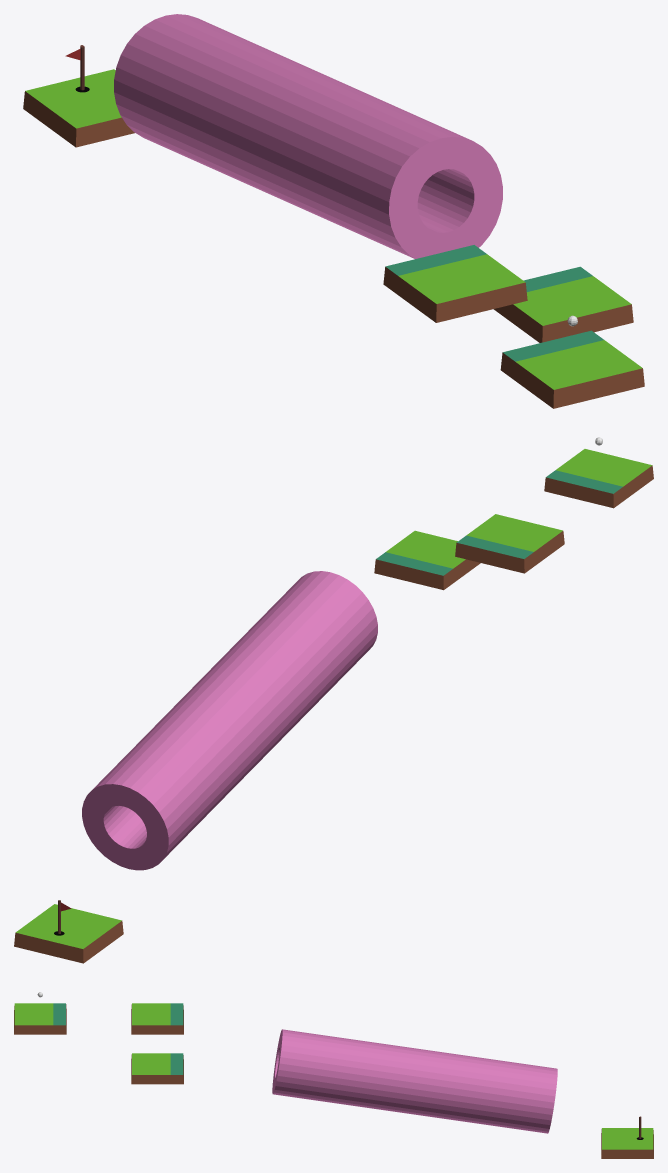
File: level6.glb
3 views of the same model, one above another, from view 1: azimuth 30°, elevation 25°; view 2: azimuth 150°, elevation 25°; view 3: azimuth 270°, elevation 25° (orthographic). The views are drawn at different scales.
Parts seen in each view (by area): view 1: Cylinder, basic-moveable.001, basic-moveable.002, basic-moveable.003, basic-fixed.001; view 2: Cylinder, basic-moveable.002, basic-moveable.001, basic-fixed.001, basic-moveable.003; view 3: Cylinder, basic-moveable.001, basic-moveable.002, basic-moveable.003, basic-fixed.001.
Part boxes in pixels (box(x1,y1,x2,y2)): Cylinder: box(114, 14, 502, 258); basic-moveable.001: box(500, 330, 644, 408); basic-moveable.002: box(383, 245, 527, 322); basic-moveable.003: box(493, 266, 633, 342); basic-fixed.001: box(23, 69, 134, 147); Cylinder: box(82, 571, 377, 870); basic-moveable.002: box(455, 514, 564, 573); basic-moveable.001: box(544, 449, 653, 508); basic-fixed.001: box(14, 904, 123, 963); basic-moveable.003: box(374, 530, 480, 590); Cylinder: box(272, 1029, 557, 1133); basic-moveable.001: box(14, 1003, 66, 1034); basic-moveable.002: box(131, 1003, 183, 1034); basic-moveable.003: box(131, 1053, 183, 1084); basic-fixed.001: box(601, 1128, 653, 1158).
Bounding box in the file's own units: 4.66 × 5.38 × 24.25.
Materials: 4 (4 with a texture image).
